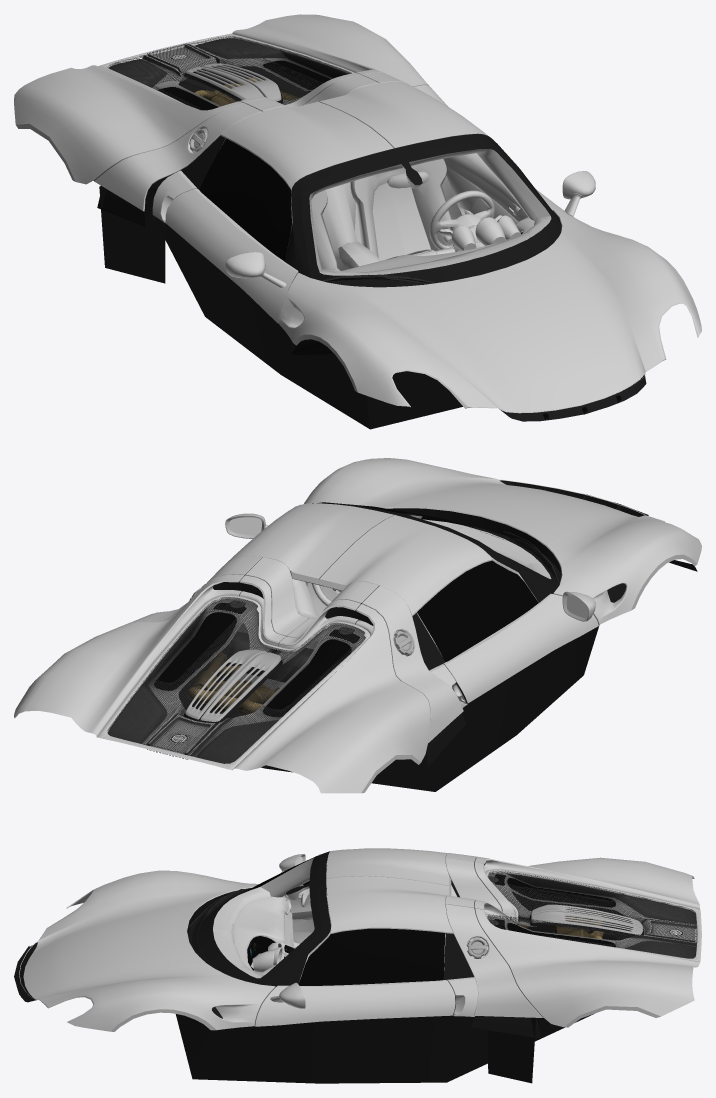
File: RMCar01Interior.FBX
3 renders of one model, top to bottom at view 1: azimuth 30°, elevation 25°; view 2: azimuth 150°, elevation 25°; view 3: azimuth 270°, elevation 25°, orthographic. The views are drawn at different scales.
Parts seen in each view (by area): view 1: RMCar01_Paint_LOD0, RMCar01_Body_LOD0, RMCar01_Interior_LOD0, RMCar01_PaintRoof_LOD0, RMCar01_WindowsDoor_LOD0, RMCar01_BodyGrid_LOD0, RMCar01_SteeringWheel_LOD0; view 2: RMCar01_Paint_LOD0, RMCar01_Body_LOD0, RMCar01_PaintRoof_LOD0, RMCar01_BodyGrid_LOD0, RMCar01_WindowsDoor_LOD0, RMCar01_Interior_LOD0; view 3: RMCar01_Paint_LOD0, RMCar01_Body_LOD0, RMCar01_PaintRoof_LOD0, RMCar01_Interior_LOD0, RMCar01_WindowsDoor_LOD0, RMCar01_BodyGrid_LOD0, RMCar01_InteriorHUD_LOD0.
Part boxes in pixels (x1,y1,x2,y2): RMCar01_Paint_LOD0: [14, 14, 701, 413]; RMCar01_Body_LOD0: [97, 38, 646, 429]; RMCar01_Interior_LOD0: [211, 134, 551, 275]; RMCar01_PaintRoof_LOD0: [220, 81, 487, 190]; RMCar01_WindowsDoor_LOD0: [199, 138, 291, 261]; RMCar01_BodyGrid_LOD0: [107, 36, 351, 110]; RMCar01_SteeringWheel_LOD0: [429, 190, 494, 249]; RMCar01_Paint_LOD0: [14, 458, 701, 793]; RMCar01_Body_LOD0: [108, 480, 697, 791]; RMCar01_PaintRoof_LOD0: [221, 503, 492, 615]; RMCar01_BodyGrid_LOD0: [107, 597, 365, 763]; RMCar01_WindowsDoor_LOD0: [417, 560, 538, 662]; RMCar01_Interior_LOD0: [237, 503, 551, 690]; RMCar01_Paint_LOD0: [19, 853, 701, 1031]; RMCar01_Body_LOD0: [14, 851, 696, 1083]; RMCar01_PaintRoof_LOD0: [326, 848, 453, 934]; RMCar01_Interior_LOD0: [213, 851, 457, 985]; RMCar01_WindowsDoor_LOD0: [298, 881, 445, 985]; RMCar01_BodyGrid_LOD0: [487, 870, 697, 958]; RMCar01_InteriorHUD_LOD0: [247, 936, 294, 970].
Bounding box in the file's own units: 205 × 413 × 107.
